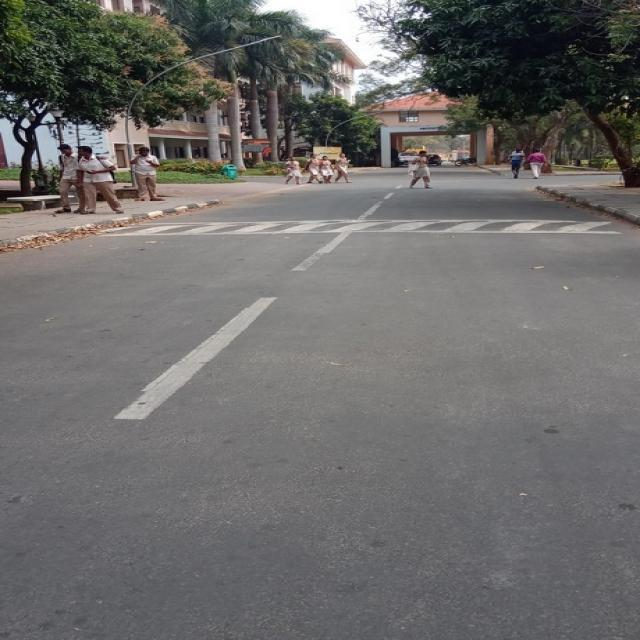speedbreaker: (122, 218, 634, 240)
